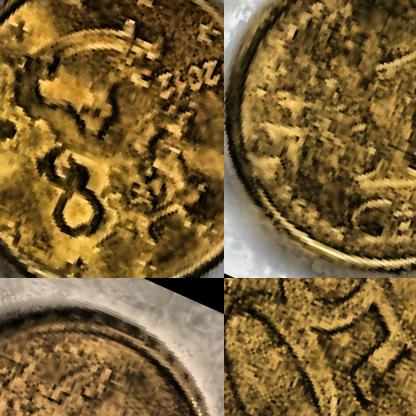coin: (0, 0, 223, 277), (224, 0, 415, 277), (0, 278, 223, 415), (224, 278, 415, 415)
